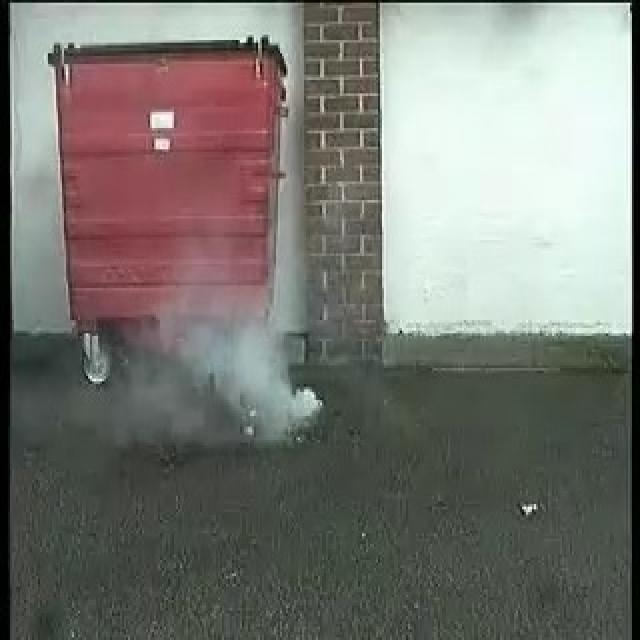smoke: (145, 288, 319, 435)
